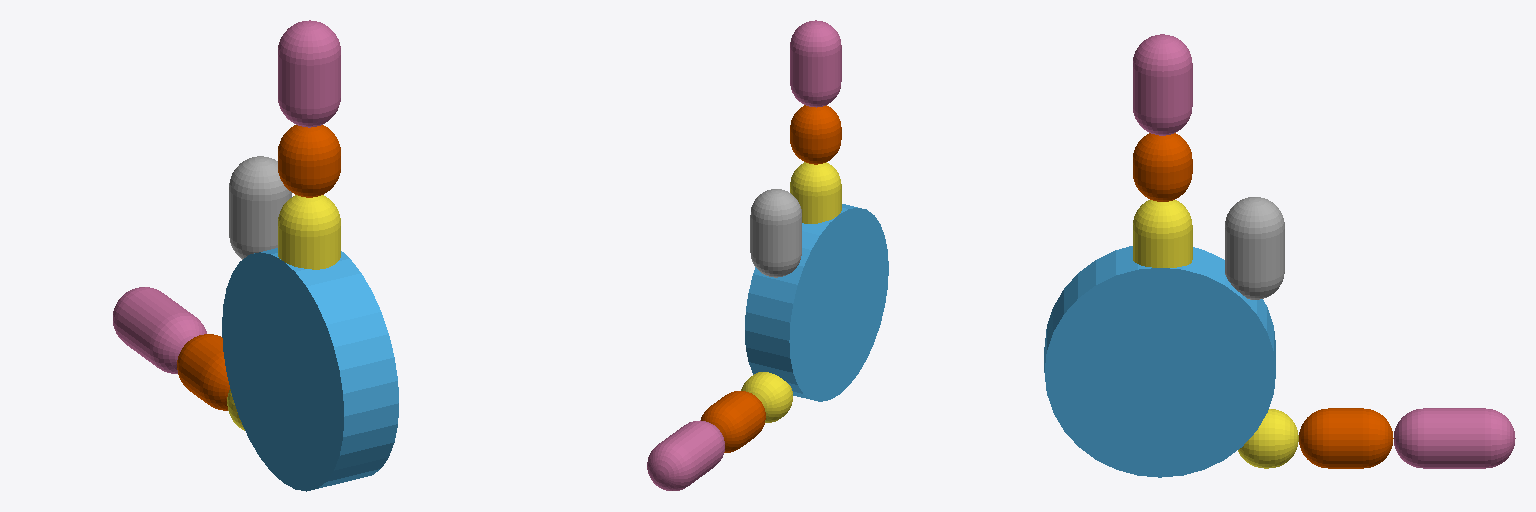
The robot description file, URDF, robot "DexterousHand":
<?xml version="1.0"?>
<robot name="DexterousHand">


    <link name="world"/>
    <joint name="world_to_palm" type="fixed">
        <parent link="world"/>
        <child link="palm"/>
        <origin xyz="0 0 0" rpy="0 0 0"/>
    </joint>
    <link name="palm">
        <inertial>
            <origin xyz="0 0 0.057" rpy="0 0 0"/>
            <mass value="0.30212892864"/>
            <inertia ixx="0.00049080844457568" ixy="0.0" ixz="0.0" iyy="0.00026746366246427523" iyz="0.0" izz="0.00026746366246427523"/>
        </inertial>
        <visual>
            <origin xyz="0 0 0.057" rpy="1.5708 0 1.5708"/>
            <geometry>
                <cylinder radius="0.057" length="0.0296"/>
            </geometry>
            <material name="default"/>
        </visual>
        <collision>
            <origin xyz="0 0 0.057" rpy="1.5708 0 1.5708"/>
            <geometry>
                <cylinder radius="0.057" length="0.0296"/>
            </geometry>
        </collision>
    </link>

    
    <joint name="thumb_joint1" type="revolute">
        <parent link="palm"/>
        <child link="thumb_base"/>
        <origin xyz="0.0029 0.0368 0.0157" rpy="-1.5708 -1.5708 0.0"/>
        <axis xyz="-1 0 0"/>
        <limit lower="-0.349" upper="2.094" effort="1.0" velocity="1.0"/>
    </joint>

    <link name="thumb_base"></link>

    <joint name="thumb_joint2" type="revolute">
        <parent link="thumb_base"/>
        <child link="thumb_proximal"/>
        <origin xyz="0.0 0.0 0.0" rpy="0.0 0.0 0.0"/>
        <axis xyz="0 0 1"/>
        <limit lower="-0.47" upper="2.443" effort="1.0" velocity="1.0"/>
    </joint>

    <link name="thumb_proximal">
        <inertial>
            <origin xyz="0 0 0.01565" rpy="0 0 0"/>
            <mass value="0.021538658803200002"/>
            <inertia ixx="2.9378910096388167e-06" ixy="0.0" ixz="0.0" 
            iyy="2.9378910096388167e-06" iyz="0.0" izz="2.358913912126464e-06"/>
        </inertial>
        <visual>
            <origin xyz="0 0 0.01565" rpy="0 0 0"/>
            <geometry>
                <cylinder radius="0.0148" length="0.0017000000000000001"/>
            </geometry>
            <material name="default"/>
        </visual>
        <visual>
            <origin xyz="0 0 0.0148" rpy="0 0 0"/>
            <geometry>
                <sphere radius="0.0148"/>
            </geometry>
            <material name="default"/>
        </visual>
        <visual>
            <origin xyz="0 0 0.0165" rpy="0 0 0"/>
            <geometry>
                <sphere radius="0.0148"/>
            </geometry>
            <material name="default"/>
        </visual>
        <collision>
            <origin xyz="0 0 0.01565" rpy="0 0 0"/>
            <geometry>
                <cylinder radius="0.0148" length="0.0017000000000000001"/>
            </geometry>
        </collision>
        <collision>
            <origin xyz="0 0 0.0148" rpy="0 0 0"/>
            <geometry>
                <sphere radius="0.0148"/>
            </geometry>
        </collision>
        <collision>
            <origin xyz="0 0 0.0165" rpy="0 0 0"/>
            <geometry>
                <sphere radius="0.0148"/>
            </geometry>
        </collision>
    </link>

    <joint name="thumb_joint3" type="revolute">
        <parent link="thumb_proximal"/>
        <child link="thumb_knuckle"/>
        <origin xyz="0.0 0.0 0.0313" rpy="0.0 0.0 0.0"/>
        <axis xyz="1 0 0"/>
        <limit lower="0.0" upper="0.0" effort="1.0" velocity="1.0"/>
    </joint>

    <link name="thumb_knuckle"></link>

    <joint name="thumb_joint4" type="revolute">
        <parent link="thumb_knuckle"/>
        <child link="thumb_middle"/>
        <origin xyz="0 0 0" rpy="0 0 0"/> 
        <axis xyz="0 1 0"/>
        <limit lower="-1.2" upper="1.9" effort="1.0" velocity="1.0"/>
    </joint>

    <link name="thumb_middle">
        <inertial>
            <origin xyz="0 0 0.0233" rpy="0 0 0"/>
            <mass value="0.032067140582400004"/>
            <inertia ixx="7.5589732685519385e-06" ixy="0.0" ixz="0.0" 
            iyy="7.5589732685519385e-06" iyz="0.0" izz="3.5119932365844485e-06"/>
        </inertial>
        <visual>
            <origin xyz="0 0 0.0233" rpy="0 0 0"/>
            <geometry>
                <cylinder radius="0.0148" length="0.017"/>
            </geometry>
            <material name="default"/>
        </visual>
        <visual>
            <origin xyz="0 0 0.0148" rpy="0 0 0"/>
            <geometry>
                <sphere radius="0.0148"/>
            </geometry>
            <material name="default"/>
        </visual>
        <visual>
            <origin xyz="0 0 0.0318" rpy="0 0 0"/>
            <geometry>
                <sphere radius="0.0148"/>
            </geometry>
            <material name="default"/>
        </visual>
        <collision>
            <origin xyz="0 0 0.0233" rpy="0 0 0"/>
            <geometry>
                <cylinder radius="0.0148" length="0.017"/>
            </geometry>
        </collision>
        <collision>
            <origin xyz="0 0 0.0148" rpy="0 0 0"/>
            <geometry>
                <sphere radius="0.0148"/>
            </geometry>
        </collision>
        <collision>
            <origin xyz="0 0 0.0318" rpy="0 0 0"/>
            <geometry>
                <sphere radius="0.0148"/>
            </geometry>
        </collision>
    </link>

    <joint name="thumb_joint5" type="revolute">
        <parent link="thumb_middle"/>
        <child link="thumb_distal"/>
        <origin xyz="0 0 0.0466" rpy="0 0 0"/> 
        <axis xyz="0 1 0"/>
        <limit lower="-1.34" upper="1.88" effort="1.0" velocity="1.0"/>
    </joint>

    <link name="thumb_distal">
        <inertial>
            <origin xyz="0 0 0.03" rpy="0 0 0"/>
            <mass value="0.04128816384"/>
            <inertia ixx="1.46473890038784e-05" ixy="0.0" ixz="0.0" 
            iyy="1.46473890038784e-05" iyz="0.0" izz="4.521879703756801e-06"/>
        </inertial>
        <visual>
            <origin xyz="0 0 0.03" rpy="0 0 0"/>
            <geometry>
                <cylinder radius="0.0148" length="0.030399999999999996"/>
            </geometry>
            <material name="default"/>
        </visual>
        <visual>
            <origin xyz="0 0 0.0148" rpy="0 0 0"/>
            <geometry>
                <sphere radius="0.0148"/>
            </geometry>
            <material name="default"/>
        </visual>
        <visual>
            <origin xyz="0 0 0.0452" rpy="0 0 0"/>
            <geometry>
                <sphere radius="0.0148"/>
            </geometry>
            <material name="default"/>
        </visual>
        <collision>
            <origin xyz="0 0 0.03" rpy="0 0 0"/>
            <geometry>
                <cylinder radius="0.0148" length="0.030399999999999996"/>
            </geometry>
        </collision>
        <collision>
            <origin xyz="0 0 0.0148" rpy="0 0 0"/>
            <geometry>
                <sphere radius="0.0148"/>
            </geometry>
        </collision>
        <collision>
            <origin xyz="0 0 0.0452" rpy="0 0 0"/>
            <geometry>
                <sphere radius="0.0148"/>
            </geometry>
        </collision>
    </link>

    
    <joint name="index_joint1" type="revolute">
        <parent link="palm"/>
        <child link="index_proximal"/>
        <origin xyz="0.0 0.0465 0.091" rpy="0.0 0.0 0.0"/>
        <axis xyz="0 1 0"/>
        <limit lower="-0.314" upper="2.23" effort="1.0" velocity="1.0"/>
    </joint>

    <link name="index_proximal">
        <inertial>
            <origin xyz="0 0 0.02655" rpy="0 0 0"/>
            <mass value="0.036540024998400006"/>
            <inertia ixx="1.058665009272394e-05" ixy="0.0" ixz="0.0" 
            iyy="1.058665009272394e-05" iyz="0.0" izz="4.001863537824769e-06"/>
        </inertial>
        <visual>
            <origin xyz="0 0 0.02655" rpy="0 0 0"/>
            <geometry>
                <cylinder radius="0.0148" length="0.0235"/>
            </geometry>
            <material name="default"/>
        </visual>
        <visual>
            <origin xyz="0 0 0.0148" rpy="0 0 0"/>
            <geometry>
                <sphere radius="0.0148"/>
            </geometry>
            <material name="default"/>
        </visual>
        <visual>
            <origin xyz="0 0 0.0383" rpy="0 0 0"/>
            <geometry>
                <sphere radius="0.0148"/>
            </geometry>
            <material name="default"/>
        </visual>
        <collision>
            <origin xyz="0 0 0.02655" rpy="0 0 0"/>
            <geometry>
                <cylinder radius="0.0148" length="0.0235"/>
            </geometry>
        </collision>
        <collision>
            <origin xyz="0 0 0.0148" rpy="0 0 0"/>
            <geometry>
                <sphere radius="0.0148"/>
            </geometry>
        </collision>
        <collision>
            <origin xyz="0 0 0.0383" rpy="0 0 0"/>
            <geometry>
                <sphere radius="0.0148"/>
            </geometry>
        </collision>
    </link>

    <joint name="index_joint2" type="revolute">
        <parent link="index_proximal"/>
        <child link="index_dummy"/>
        <origin xyz="0.0 0.0 0.038" rpy="0.0 0.0 0.0"/>
        <axis xyz="0 1 0"/>
        <limit lower="0.0" upper="0.0" effort="1.0" velocity="1.0"/>
    </joint>

    <link name="index_dummy"></link>

    <joint name="index_joint3" type="revolute">
        <parent link="index_dummy"/>
        <child link="index_middle"/>
        <origin xyz="0 0 0.015100000000000002" rpy="0 0 0"/>
        <axis xyz="0 1 0"/>
        <limit lower="0.0" upper="0.0" effort="1.0" velocity="1.0"/>
    </joint>

    <link name="index_middle">
    </link>

    <joint name="index_joint4" type="revolute">
        <parent link="index_middle"/>
        <child link="index_distal"/>
        <origin xyz="0 0 0" rpy="0 0 0"/> 
        <axis xyz="0 1 0"/>
        <limit lower="0.0" upper="0.0" effort="1.0" velocity="1.0"/>
    </joint>

    <link name="index_distal">
    </link>

    
    <joint name="middle_joint1" type="revolute">
        <parent link="palm"/>
        <child link="middle_proximal"/>
        <origin xyz="0.0 0.0011 0.091" rpy="0.0 0.0 0.0"/>
        <axis xyz="0 1 0"/>
        <limit lower="-0.314" upper="2.23" effort="1.0" velocity="1.0"/>
    </joint>

    <link name="middle_proximal">
        <inertial>
            <origin xyz="0 0 0.02655" rpy="0 0 0"/>
            <mass value="0.036540024998400006"/>
            <inertia ixx="1.058665009272394e-05" ixy="0.0" ixz="0.0" 
            iyy="1.058665009272394e-05" iyz="0.0" izz="4.001863537824769e-06"/>
        </inertial>
        <visual>
            <origin xyz="0 0 0.02655" rpy="0 0 0"/>
            <geometry>
                <cylinder radius="0.0148" length="0.0235"/>
            </geometry>
            <material name="default"/>
        </visual>
        <visual>
            <origin xyz="0 0 0.0148" rpy="0 0 0"/>
            <geometry>
                <sphere radius="0.0148"/>
            </geometry>
            <material name="default"/>
        </visual>
        <visual>
            <origin xyz="0 0 0.0383" rpy="0 0 0"/>
            <geometry>
                <sphere radius="0.0148"/>
            </geometry>
            <material name="default"/>
        </visual>
        <collision>
            <origin xyz="0 0 0.02655" rpy="0 0 0"/>
            <geometry>
                <cylinder radius="0.0148" length="0.0235"/>
            </geometry>
        </collision>
        <collision>
            <origin xyz="0 0 0.0148" rpy="0 0 0"/>
            <geometry>
                <sphere radius="0.0148"/>
            </geometry>
        </collision>
        <collision>
            <origin xyz="0 0 0.0383" rpy="0 0 0"/>
            <geometry>
                <sphere radius="0.0148"/>
            </geometry>
        </collision>
    </link>

    <joint name="middle_joint2" type="revolute">
        <parent link="middle_proximal"/>
        <child link="middle_dummy"/>
        <origin xyz="0.0 0.0 0.038" rpy="0.0 0.0 0.0"/>
        <axis xyz="1 0 0"/>
        <limit lower="-1.047" upper="1.047" effort="1.0" velocity="1.0"/>
    </joint>

    <link name="middle_dummy"></link>

    <joint name="middle_joint3" type="revolute">
        <parent link="middle_dummy"/>
        <child link="middle_middle"/>
        <origin xyz="0 0 0.015100000000000002" rpy="0 0 0"/>
        <axis xyz="0 1 0"/>
        <limit lower="-0.506" upper="1.885" effort="1.0" velocity="1.0"/>
    </joint>

    <link name="middle_middle">
        <inertial>
            <origin xyz="0 0 0.01805" rpy="0 0 0"/>
            <mass value="0.0248417119104"/>
            <inertia ixx="4.058162759109537e-06" ixy="0.0" ixz="0.0" 
            iyy="4.058162759109537e-06" iyz="0.0" izz="2.7206642884270085e-06"/>
        </inertial>
        <visual>
            <origin xyz="0 0 0.01805" rpy="0 0 0"/>
            <geometry>
                <cylinder radius="0.0148" length="0.006499999999999999"/>
            </geometry>
            <material name="default"/>
        </visual>
        <visual>
            <origin xyz="0 0 0.0148" rpy="0 0 0"/>
            <geometry>
                <sphere radius="0.0148"/>
            </geometry>
            <material name="default"/>
        </visual>
        <visual>
            <origin xyz="0 0 0.0213" rpy="0 0 0"/>
            <geometry>
                <sphere radius="0.0148"/>
            </geometry>
            <material name="default"/>
        </visual>
        <collision>
            <origin xyz="0 0 0.01805" rpy="0 0 0"/>
            <geometry>
                <cylinder radius="0.0148" length="0.006499999999999999"/>
            </geometry>
        </collision>
        <collision>
            <origin xyz="0 0 0.0148" rpy="0 0 0"/>
            <geometry>
                <sphere radius="0.0148"/>
            </geometry>
        </collision>
        <collision>
            <origin xyz="0 0 0.0213" rpy="0 0 0"/>
            <geometry>
                <sphere radius="0.0148"/>
            </geometry>
        </collision>
    </link>

    <joint name="middle_joint4" type="revolute">
        <parent link="middle_middle"/>
        <child link="middle_distal"/>
        <origin xyz="0 0 0.0361" rpy="0 0 0"/> 
        <axis xyz="0 1 0"/>
        <limit lower="-0.366" upper="2.042" effort="1.0" velocity="1.0"/>
    </joint>

    <link name="middle_distal">
        <inertial>
            <origin xyz="0 0 0.026" rpy="0 0 0"/>
            <mass value="0.035783075328"/>
            <inertia ixx="1.002260084553728e-05" ixy="0.0" ixz="0.0" 
            iyy="1.002260084553728e-05" iyz="0.0" izz="3.91896240992256e-06"/>
        </inertial>
        <visual>
            <origin xyz="0 0 0.026" rpy="0 0 0"/>
            <geometry>
                <cylinder radius="0.0148" length="0.022399999999999996"/>
            </geometry>
            <material name="default"/>
        </visual>
        <visual>
            <origin xyz="0 0 0.0148" rpy="0 0 0"/>
            <geometry>
                <sphere radius="0.0148"/>
            </geometry>
            <material name="default"/>
        </visual>
        <visual>
            <origin xyz="0 0 0.0372" rpy="0 0 0"/>
            <geometry>
                <sphere radius="0.0148"/>
            </geometry>
            <material name="default"/>
        </visual>
        <collision>
            <origin xyz="0 0 0.026" rpy="0 0 0"/>
            <geometry>
                <cylinder radius="0.0148" length="0.022399999999999996"/>
            </geometry>
        </collision>
        <collision>
            <origin xyz="0 0 0.0148" rpy="0 0 0"/>
            <geometry>
                <sphere radius="0.0148"/>
            </geometry>
        </collision>
        <collision>
            <origin xyz="0 0 0.0372" rpy="0 0 0"/>
            <geometry>
                <sphere radius="0.0148"/>
            </geometry>
        </collision>
    </link>

    
    <joint name="ring_joint1" type="revolute">
        <parent link="palm"/>
        <child link="ring_proximal"/>
        <origin xyz="0.0 0.0 0.0" rpy="0.0 0.0 0.0"/>
        <axis xyz="1 0 0"/>
        <limit lower="0.0" upper="0.0" effort="1.0" velocity="1.0"/>
    </joint>

    <link name="ring_proximal">
    </link>

    <joint name="ring_joint2" type="revolute">
        <parent link="ring_proximal"/>
        <child link="ring_dummy"/>
        <origin xyz="0.0 0.0 0.0" rpy="0.0 0.0 0.0"/>
        <axis xyz="0 1 0"/>
        <limit lower="0.0" upper="0.0" effort="1.0" velocity="1.0"/>
    </joint>

    <link name="ring_dummy"></link>

    <joint name="ring_joint3" type="revolute">
        <parent link="ring_dummy"/>
        <child link="ring_middle"/>
        <origin xyz="0 0 0" rpy="0 0 0"/>
        <axis xyz="0 1 0"/>
        <limit lower="0.0" upper="0.0" effort="1.0" velocity="1.0"/>
    </joint>

    <link name="ring_middle">
    </link>

    <joint name="ring_joint4" type="revolute">
        <parent link="ring_middle"/>
        <child link="ring_distal"/>
        <origin xyz="0 0 0" rpy="0 0 0"/> 
        <axis xyz="0 1 0"/>
        <limit lower="0.0" upper="0.0" effort="1.0" velocity="1.0"/>
    </joint>

    <link name="ring_distal">
    </link>

    
    <joint name="little_joint0" type="revolute">
        <parent link="palm"/>
        <child link="little_base"/>
        <origin xyz="0.0 0.0 0.0" rpy="0.0 0.0 0.0"/>
        <axis xyz="0 1 0"/>
        <limit lower="0.0" upper="0.0" effort="1.0" velocity="1.0"/>
    </joint>

    <link name="little_base"></link>

    <joint name="little_joint1" type="revolute">
        <parent link="little_base"/>
        <child link="little_proximal"/>
        <origin xyz="0.0 0.0 0.0" rpy="-0.0 -0.0 -0.0"/>
        <axis xyz="1 0 0"/>
        <limit lower="0.0" upper="0.0" effort="1.0" velocity="1.0"/>
    </joint>

    <link name="little_proximal">
    </link>

    <joint name="little_joint2" type="revolute">
        <parent link="little_proximal"/>
        <child link="little_dummy"/>
        <origin xyz="0.0 0.0 0.0" rpy="0.0 0.0 0.0"/>
        <axis xyz="0 1 0"/>
        <limit lower="0.0" upper="0.0" effort="1.0" velocity="1.0"/>
    </joint>

    <link name="little_dummy"></link>

    <joint name="little_joint3" type="revolute">
        <parent link="little_dummy"/>
        <child link="little_middle"/>
        <origin xyz="0 0 0" rpy="0 0 0"/>
        <axis xyz="0 1 0"/>
        <limit lower="0.0" upper="0.0" effort="1.0" velocity="1.0"/>
    </joint>

    <link name="little_middle">
    </link>

    <joint name="little_joint4" type="revolute">
        <parent link="little_middle"/>
        <child link="little_distal"/>
        <origin xyz="0 0 0" rpy="0 0 0"/>
        <axis xyz="0 1 0"/>
        <limit lower="0.0" upper="0.0" effort="1.0" velocity="1.0"/>
    </joint>

    <link name="little_distal">
    </link>

</robot>

--- What the picture shows (computed from the rendered views, not written in the file) ---
Views: 3 orthographic renders of the robot side by side, from view 1: azimuth 30°, elevation 25°; view 2: azimuth 150°, elevation 25°; view 3: azimuth 270°, elevation 25°.
Model DexterousHand with 24 links and 23 joints (22 revolute, 1 fixed), rooted at world, posed every joint at zero.
Links seen in each view (by area): view 1: palm, middle_distal, thumb_distal, index_proximal, middle_proximal, middle_middle, thumb_middle; view 2: palm, index_proximal, middle_distal, thumb_distal, middle_proximal, middle_middle, thumb_middle, thumb_proximal; view 3: palm, thumb_distal, index_proximal, middle_distal, thumb_middle, middle_proximal, middle_middle, thumb_proximal.
Link boxes in pixels (box(x1,y1,x2,y2)): palm: box(222, 248, 398, 491); middle_distal: box(278, 20, 340, 127); thumb_distal: box(113, 287, 206, 373); index_proximal: box(229, 156, 291, 259); middle_proximal: box(278, 195, 340, 269); middle_middle: box(278, 125, 340, 197); thumb_middle: box(177, 334, 229, 410); palm: box(745, 204, 888, 401); index_proximal: box(750, 189, 801, 277); middle_distal: box(790, 20, 841, 107); thumb_distal: box(647, 420, 724, 490); middle_proximal: box(790, 162, 841, 223); middle_middle: box(790, 105, 841, 164); thumb_middle: box(701, 391, 765, 452); thumb_proximal: box(741, 372, 792, 422); palm: box(1044, 246, 1275, 477); thumb_distal: box(1394, 408, 1515, 468); index_proximal: box(1225, 197, 1284, 299); middle_distal: box(1133, 34, 1192, 135); thumb_middle: box(1299, 408, 1393, 468); middle_proximal: box(1133, 200, 1192, 267); middle_middle: box(1133, 133, 1192, 201); thumb_proximal: box(1238, 409, 1298, 468).
Bounding box of the posed robot: 0.0325 × 0.2317 × 0.2322 m (x, y, z).
Geometry: primitives only (box / cylinder / sphere), no mesh files.
